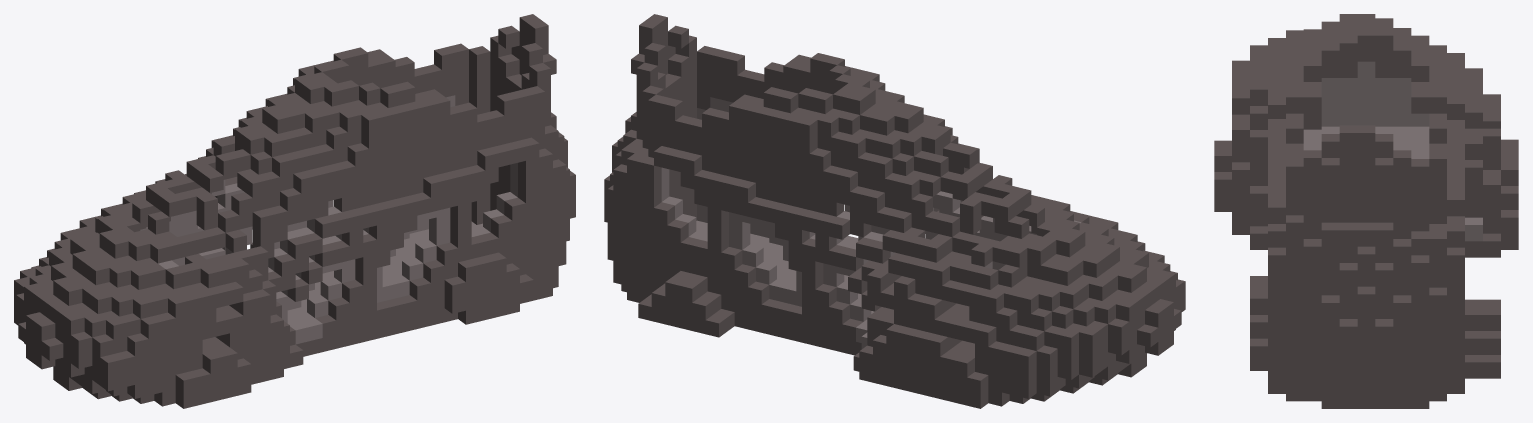
File: Moon Grey.fbx
3 views of the same model, side by side, from view 1: azimuth 30°, elevation 25°; view 2: azimuth 150°, elevation 25°; view 3: azimuth 270°, elevation 25° (orthographic). The views are drawn at different scales.
Visible parts, largest first — view 1: Untitled; view 2: Untitled; view 3: Untitled.
Part boxes in pixels (x1,y1,x2,y2): Untitled: [14, 14, 575, 408]; Untitled: [604, 14, 1185, 408]; Untitled: [1214, 14, 1518, 408].
Bounding box in the file's own units: 400 × 170 × 170.
